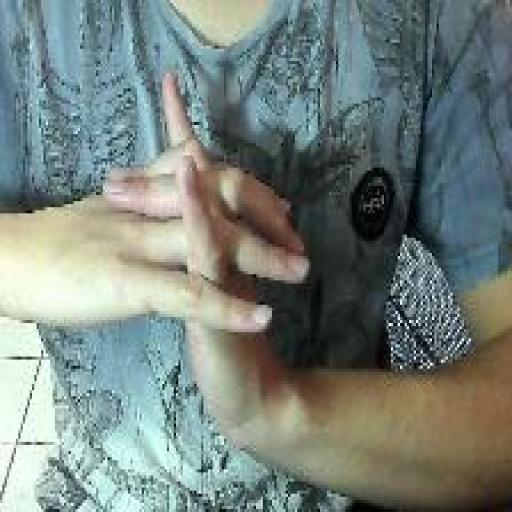Ushi -ox-: (99, 62, 312, 465)
